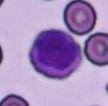M: (28, 28, 82, 80)
